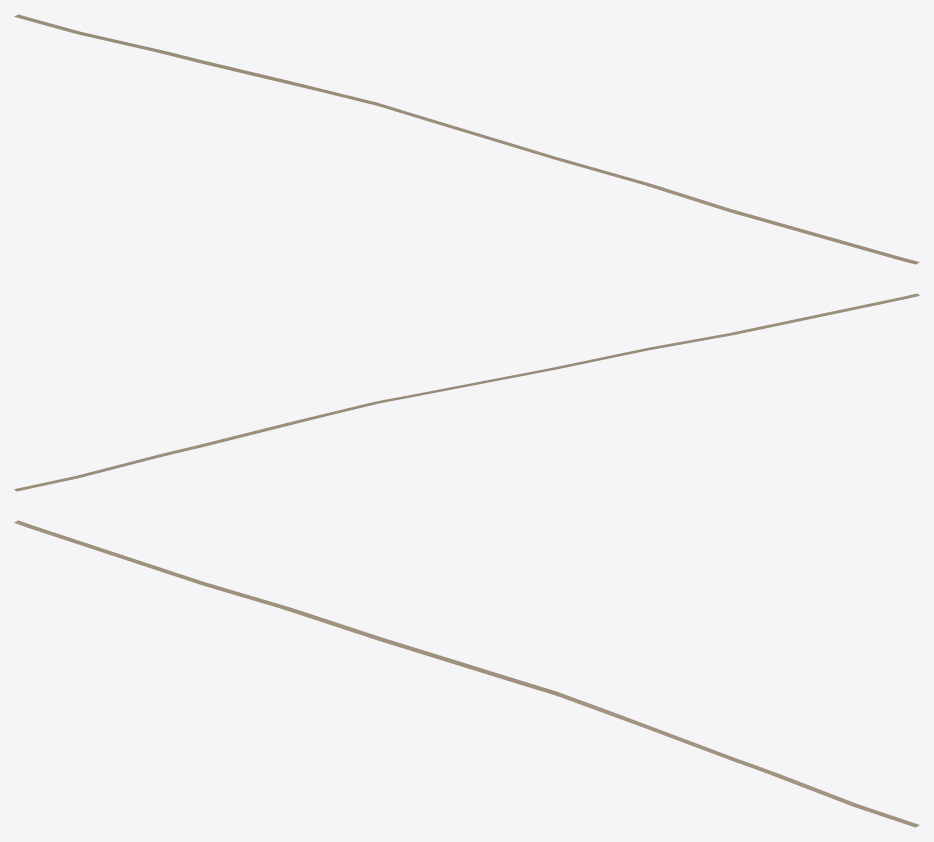
Rendered from farm_15_22_track.glb.
The picture shows the model from 3 angles, top to bottom: view 1: azimuth 90°, elevation 25°; view 2: azimuth 150°, elevation 25°; view 3: azimuth 270°, elevation 25°; orthographic projection. The views are drawn at different scales.
Visible parts, largest first — view 1: geometry_0; view 2: geometry_0; view 3: geometry_0.
Part boxes in pixels (<box>): geometry_0: <box>14,14,919,264</box>; geometry_0: <box>14,293,919,491</box>; geometry_0: <box>14,520,919,827</box>.
Size of the model in its own units: 297 by 14.23 by 408.
